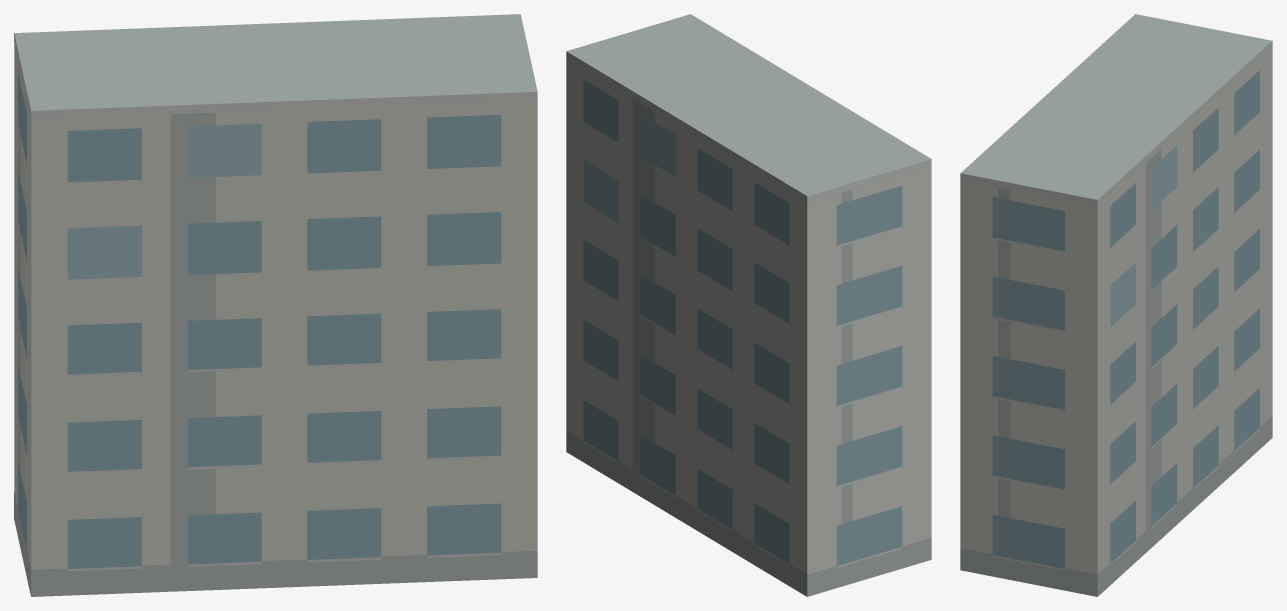
File: survey-upis-32921938.glb
The picture shows the model from 3 angles, left to right: view 1: azimuth 30°, elevation 25°; view 2: azimuth 150°, elevation 25°; view 3: azimuth 270°, elevation 25°; orthographic projection. The views are drawn at different scales.
Visible parts, largest first — view 1: survey-upis-32921938.tmp; view 2: survey-upis-32921938.tmp; view 3: survey-upis-32921938.tmp.
Boxes of the visible parts, x1,y1,x2,y2 form: survey-upis-32921938.tmp: [14, 14, 537, 596]; survey-upis-32921938.tmp: [566, 14, 931, 596]; survey-upis-32921938.tmp: [960, 14, 1272, 596].
Size of the model in its own units: 13.66 by 13.6 by 9.7.
